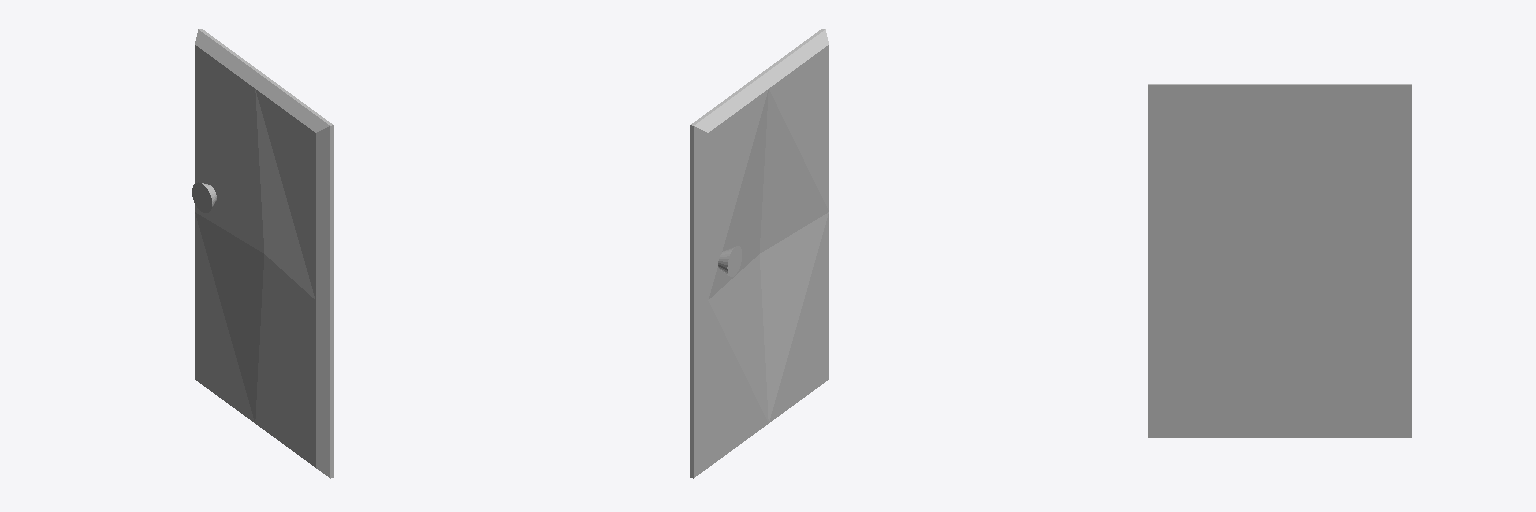
The model's file is mesa_centro_puerta4.obj.
3 views of the same model, side by side, from view 1: azimuth 30°, elevation 25°; view 2: azimuth 150°, elevation 25°; view 3: azimuth 270°, elevation 25° (orthographic).
Visible parts, largest first — view 1: Cubo.027_Cubo.025; view 2: Cubo.027_Cubo.025; view 3: Cubo.027_Cubo.025.
Part boxes in pixels (x1,y1,x2,y2): Cubo.027_Cubo.025: (192, 29, 333, 478); Cubo.027_Cubo.025: (690, 29, 828, 478); Cubo.027_Cubo.025: (1148, 84, 1411, 437).
Size of the model in its own units: 0.0699 by 1 by 0.6797.